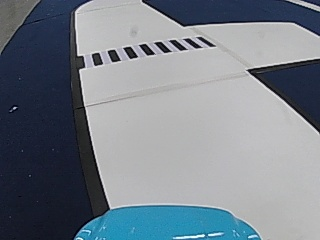CrossWalk: (83, 36, 212, 66)
